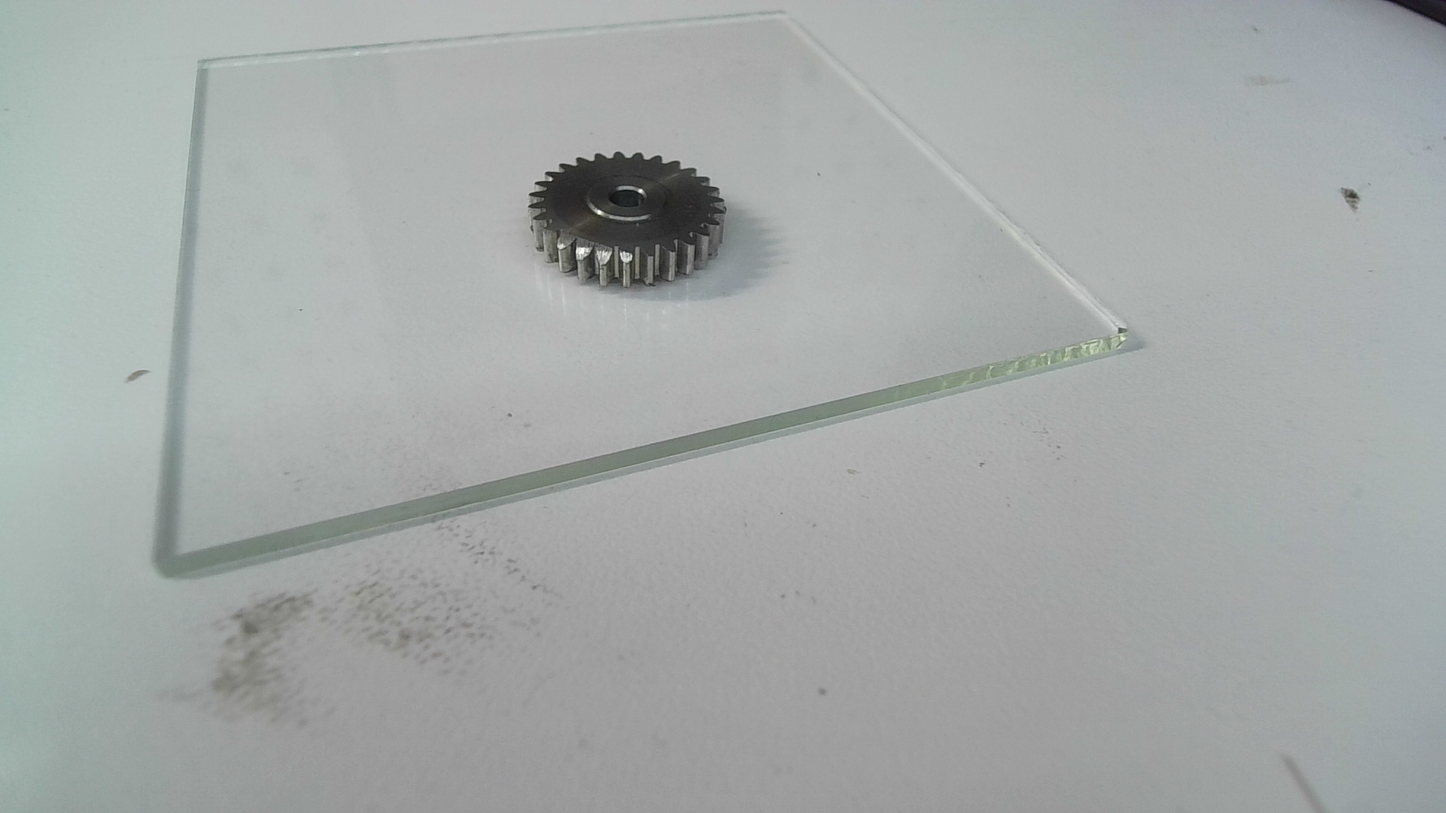gear: (525, 150, 727, 291)
